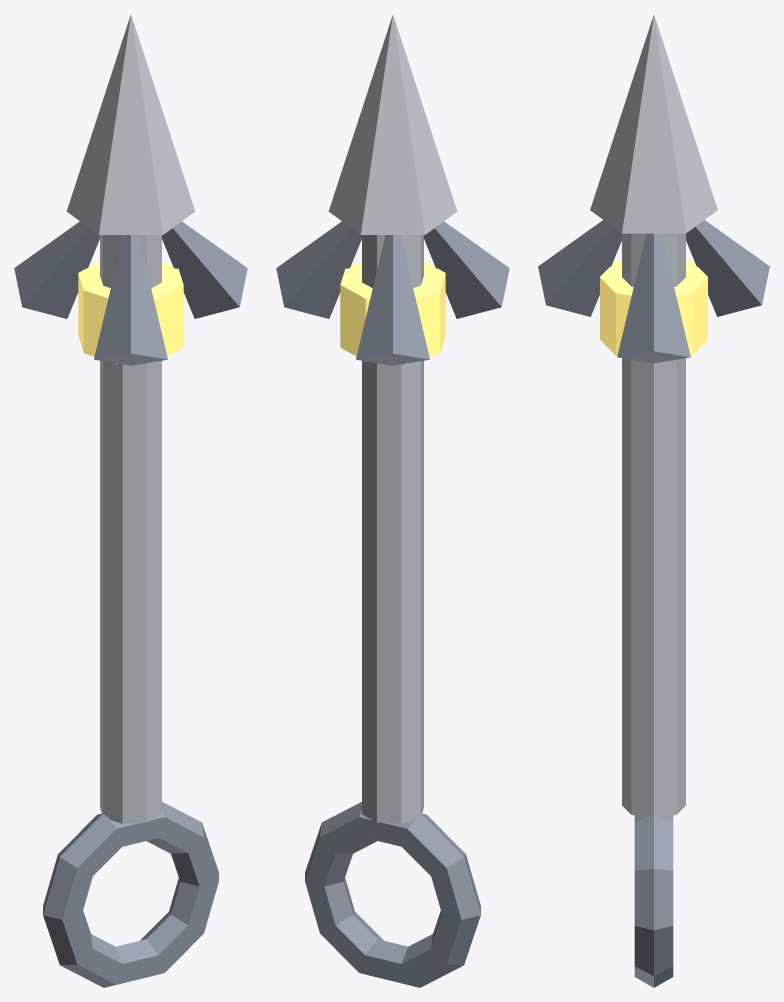
The model's file is harpoon.glb.
The picture shows the model from 3 angles, left to right: view 1: azimuth 30°, elevation 25°; view 2: azimuth 150°, elevation 25°; view 3: azimuth 270°, elevation 25°; orthographic projection.
Visible parts, largest first — view 1: PangHarpoonEye; view 2: PangHarpoonEye; view 3: PangHarpoonEye.
Part boxes in pixels (<box>): PangHarpoonEye: <box>14,15,247,987</box>; PangHarpoonEye: <box>276,15,509,987</box>; PangHarpoonEye: <box>538,15,769,987</box>.
Size of the model in its own units: 0.4772 by 2.15 by 0.4715.
